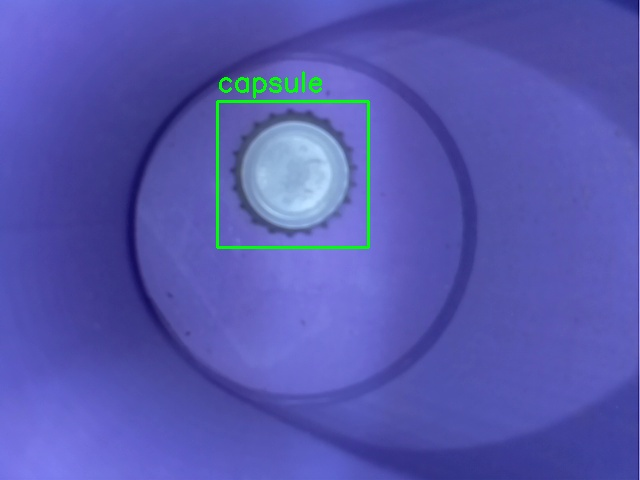capsule: (217, 101, 368, 247)
